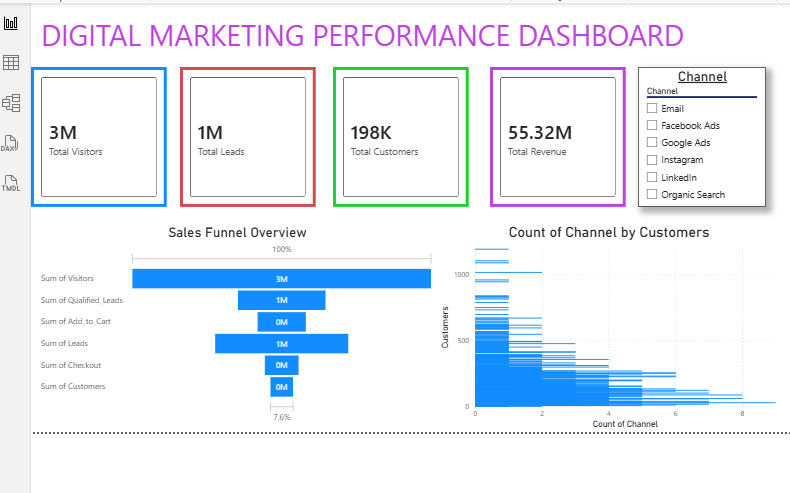

This screenshot's page, from the dashboard's own definition file:
{"tool":"powerbi","page":{"name":"Page 1","canvas":[1280,720],"ordinal":0},"visuals":[{"type":"cardVisual","fields":{"Data":["Sum(marketing_funnel_dataset.Visitors)"]},"box":[0,107.5,228.5,235.2],"z":0},{"type":"cardVisual","fields":{"Data":["Sum(marketing_funnel_dataset.Leads)"]},"box":[250.3,107.5,228.5,235.2],"z":1},{"type":"cardVisual","fields":{"Data":["Sum(marketing_funnel_dataset.Customers)"]},"box":[507.3,107.5,228.5,235.2],"z":3},{"type":"cardVisual","fields":{"Data":["Sum(marketing_funnel_dataset.Revenue)"]},"box":[771,107.5,228.5,235.2],"z":4},{"type":"funnel","title":"Sales Funnel Overview","fields":{"Y":["Sum(marketing_funnel_dataset.Visitors)","Sum(marketing_funnel_dataset.Qualified_Leads)","Sum(marketing_funnel_dataset.Add_to_Cart)","Sum(marketing_funnel_dataset.Leads)","Sum(marketing_funnel_dataset.Checkout)","Sum(marketing_funnel_dataset.Customers)"]},"box":[11.8,371.2,670.2,339.3],"z":5},{"type":"clusteredBarChart","fields":{"Category":["marketing_funnel_dataset.Customers"],"Y":["CountNonNull(marketing_funnel_dataset.Channel)"]},"box":[682,371.2,577.8,349.4],"z":6},{"type":"textbox","box":[11.8,15.1,1187.6,92.4],"z":7},{"type":"slicer","title":"Channel","fields":{"Values":["marketing_funnel_dataset.Channel"]},"box":[1019.6,107.5,215,235.2],"z":8}]}

Visuals, with their boxes in screenshot pixels (x1, y1, x2, y2):
cardVisual - Sum(marketing_funnel_dataset.Visitors): 25 65 164 209
cardVisual - Sum(marketing_funnel_dataset.Leads): 177 65 316 209
cardVisual - Sum(marketing_funnel_dataset.Customers): 333 65 473 209
cardVisual - Sum(marketing_funnel_dataset.Revenue): 494 65 633 209
"Sales Funnel Overview" funnel: 32 226 440 432
clusteredBarChart - marketing_funnel_dataset.Customers x CountNonNull(marketing_funnel_dataset.Channel): 440 226 789 439
textbox: 32 9 755 65
"Channel" slicer: 645 65 776 209
